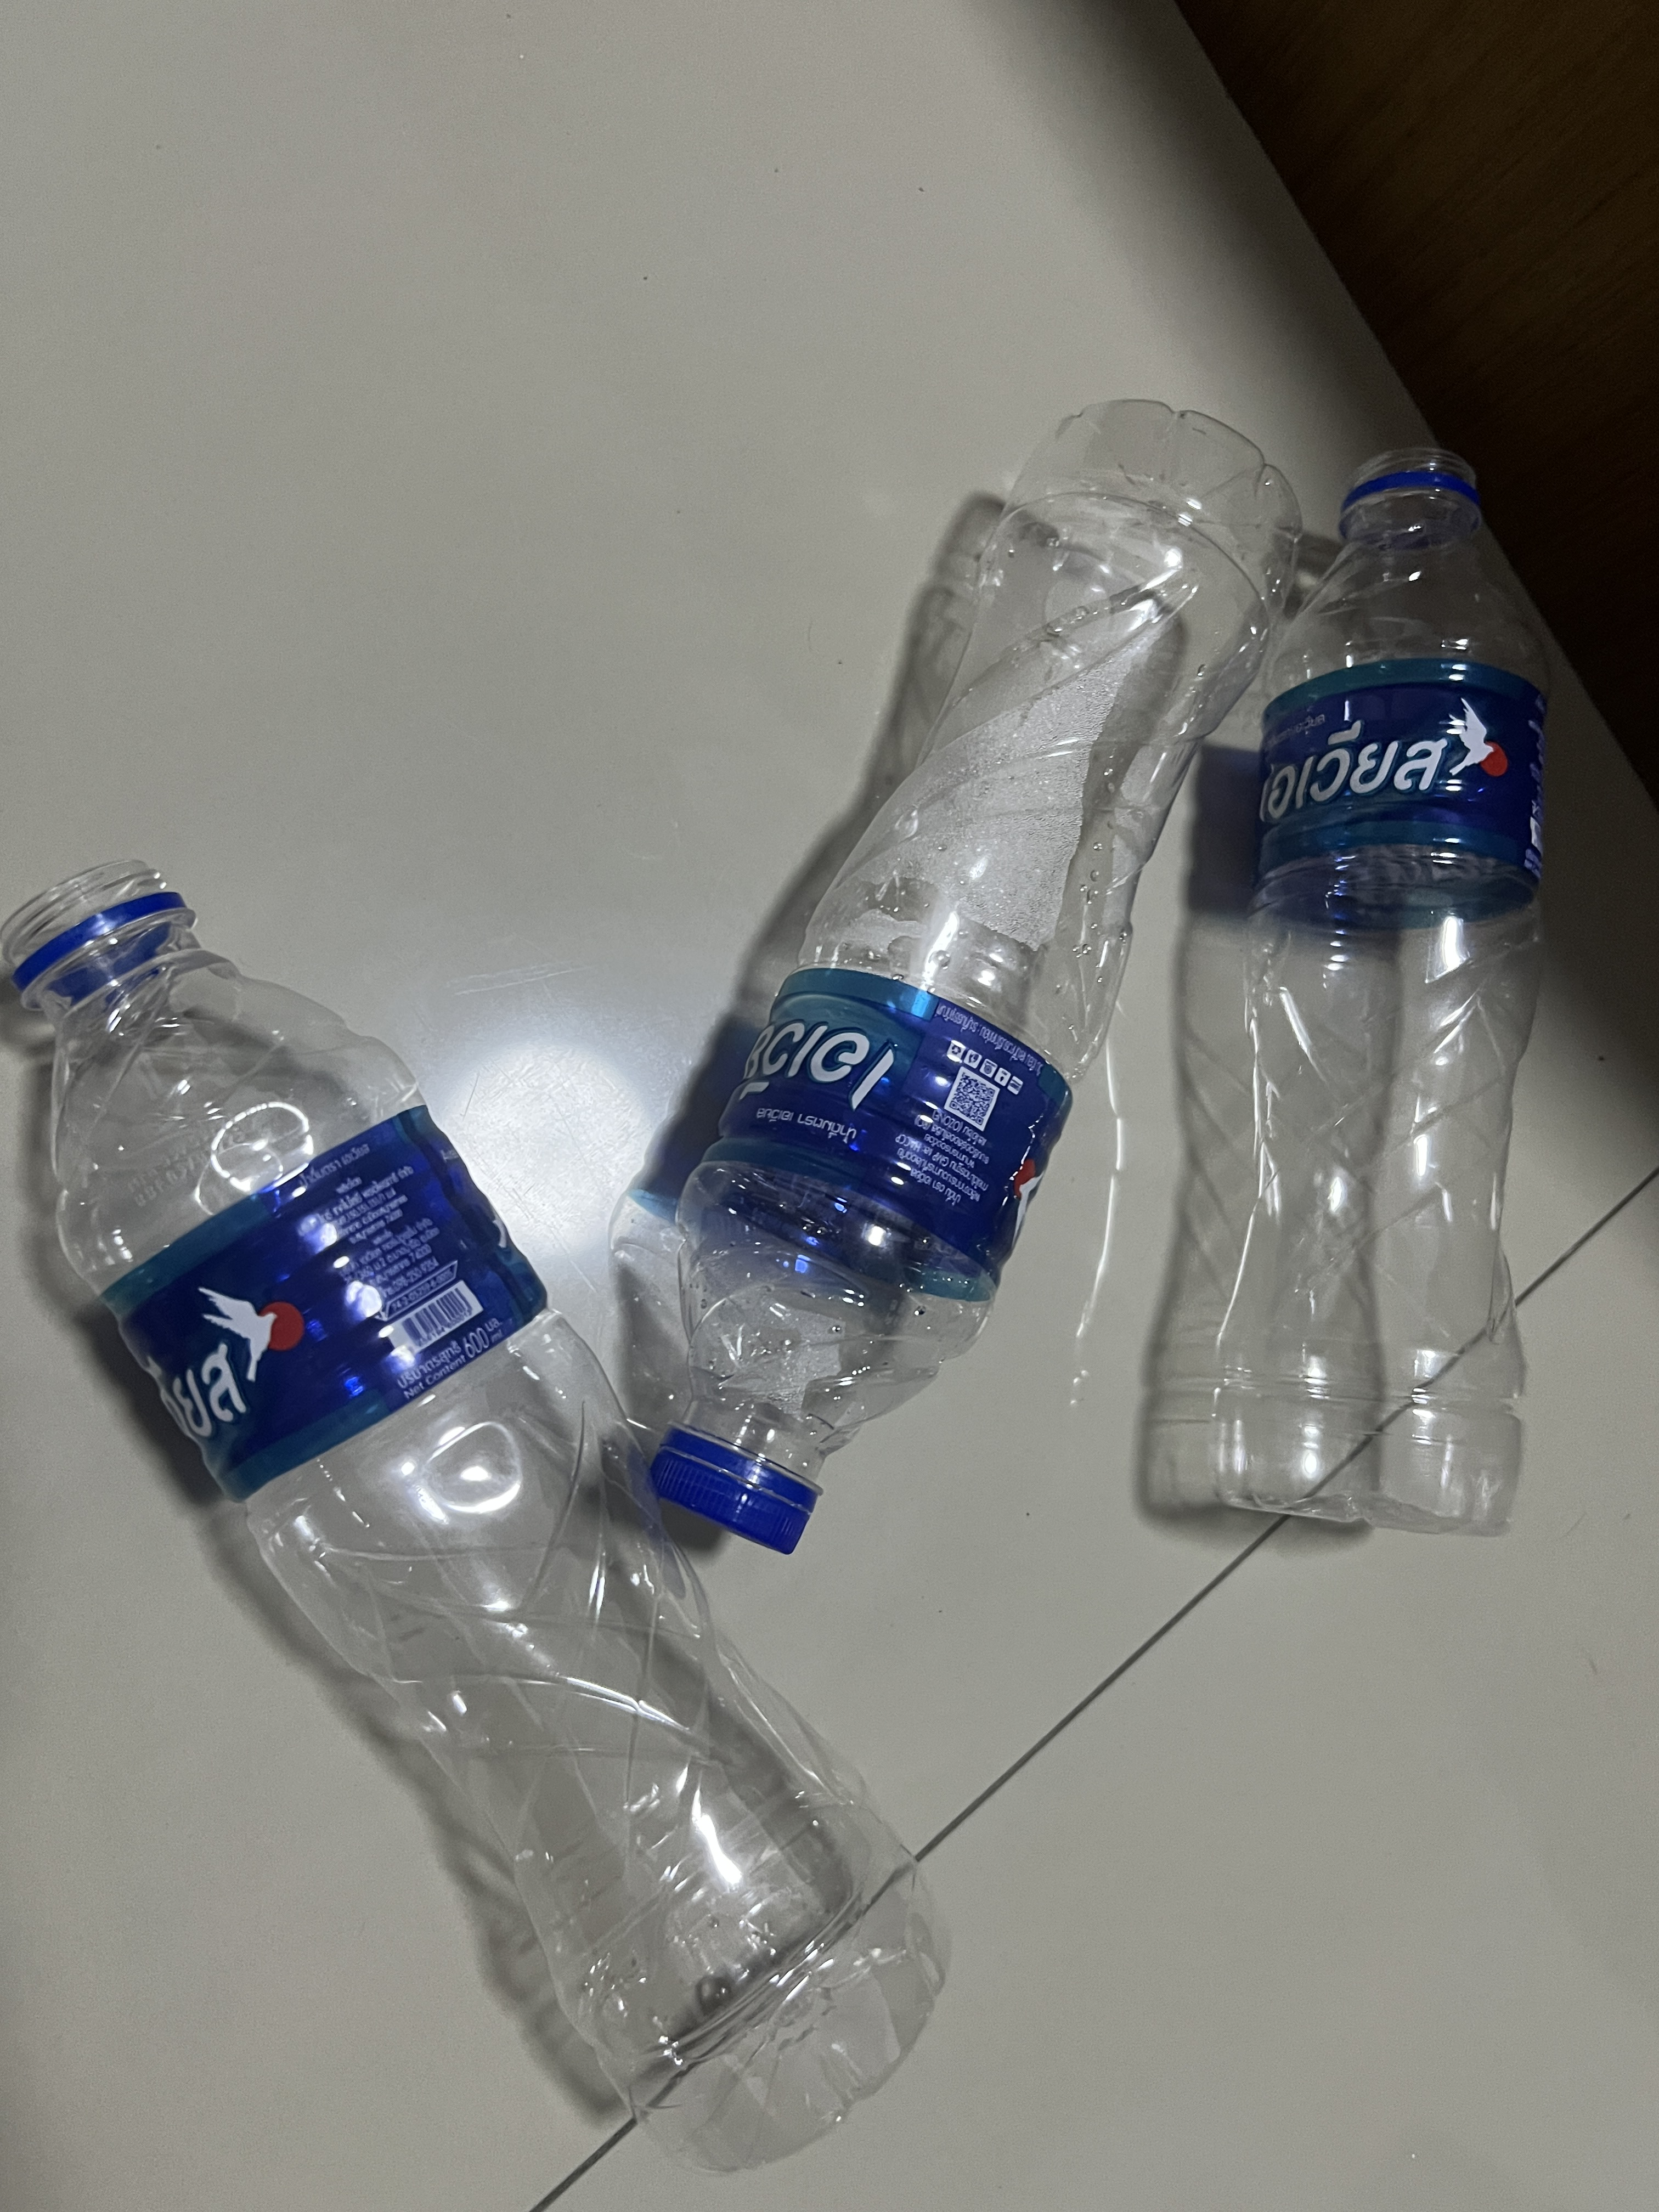plastic_bottle: (3, 852, 978, 2177), (660, 395, 1324, 1531), (1201, 444, 1591, 1508)
